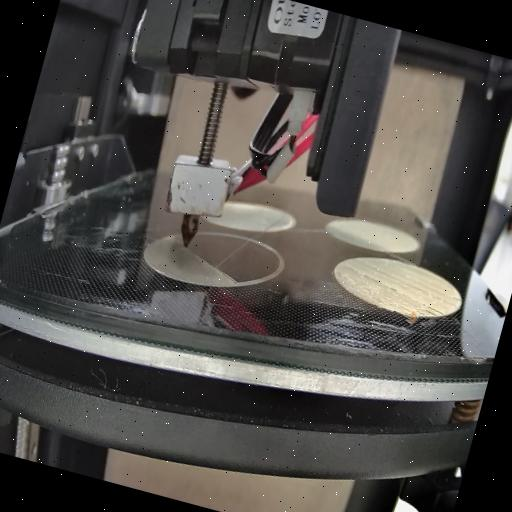under_extrusion: (341, 260, 401, 294), (414, 302, 444, 324), (447, 292, 462, 306)
